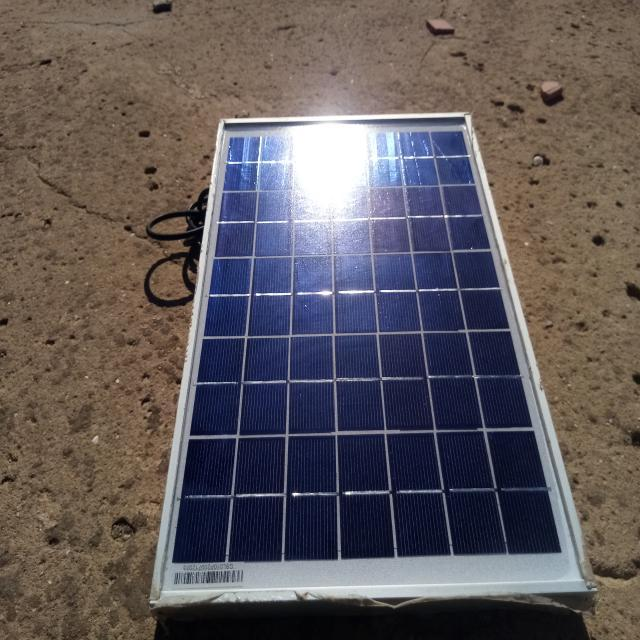no faulty: (154, 115, 595, 595)
